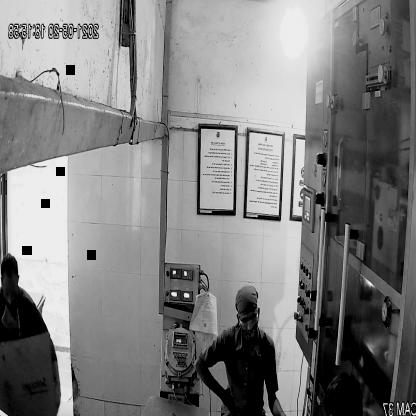goggles: (237, 306, 263, 332)
